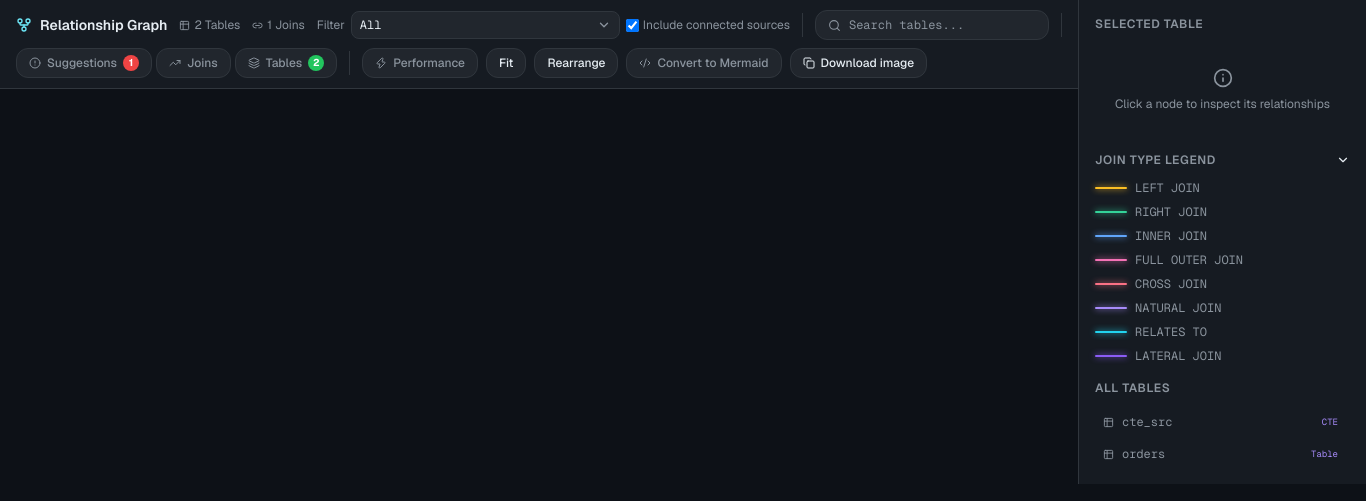
Scenario: relationship graph page (019 A3, A11-A18) › hides the second hop when connected sources are turned off
Click the checkbox labelled "Include connected sources" at (632,25), box [626,18,639,32]
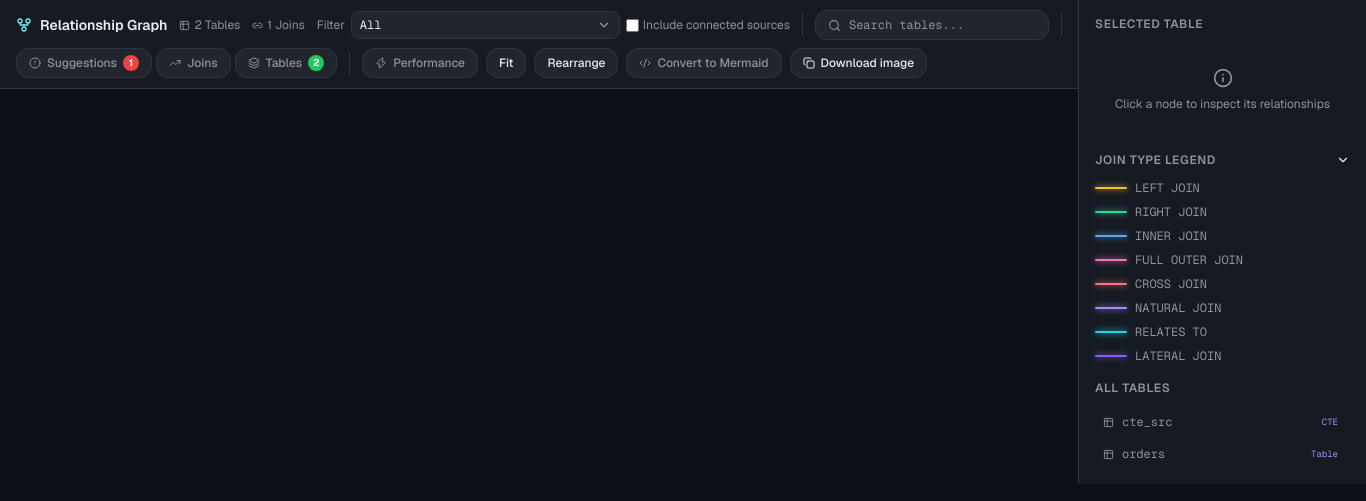
Select "CTEs only" in the dropdown named "Filter" at (485,25), box [351,11,620,39]
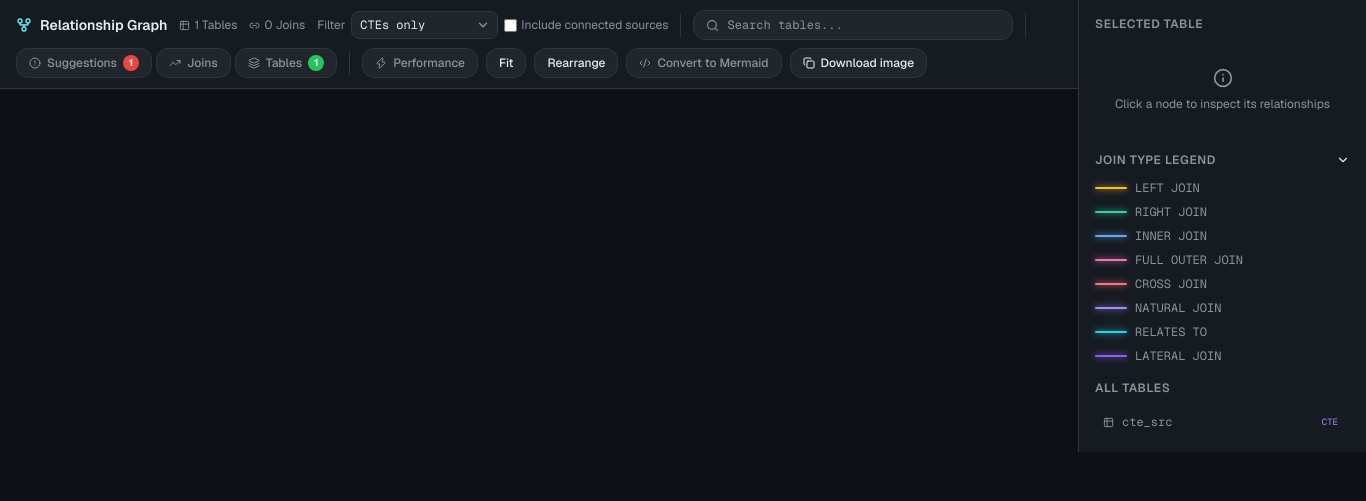
Expected: the button "cte_src CTE" is shown, [1095,408,1350,436]
Now the button "orders" is gone
